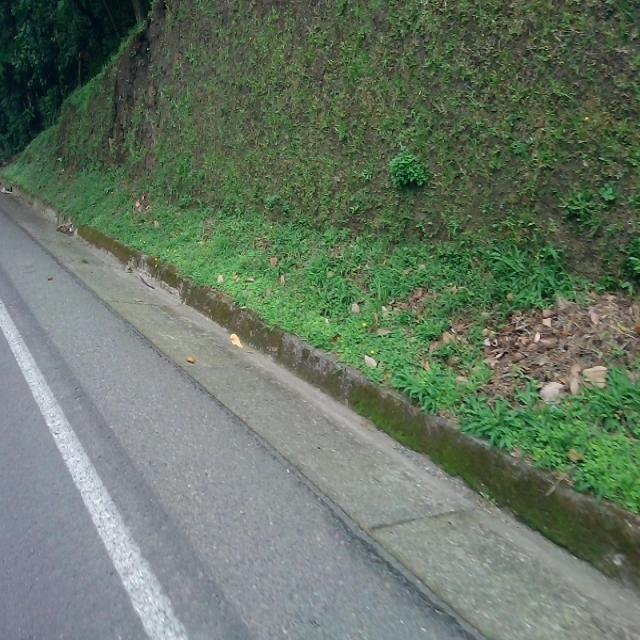DITCH: (15, 99, 638, 638), (1, 182, 638, 638)
